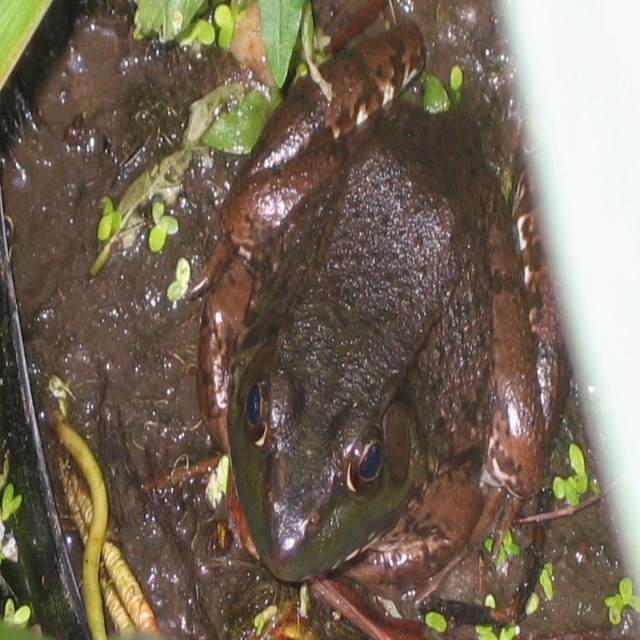Frog: (186, 24, 569, 600)
